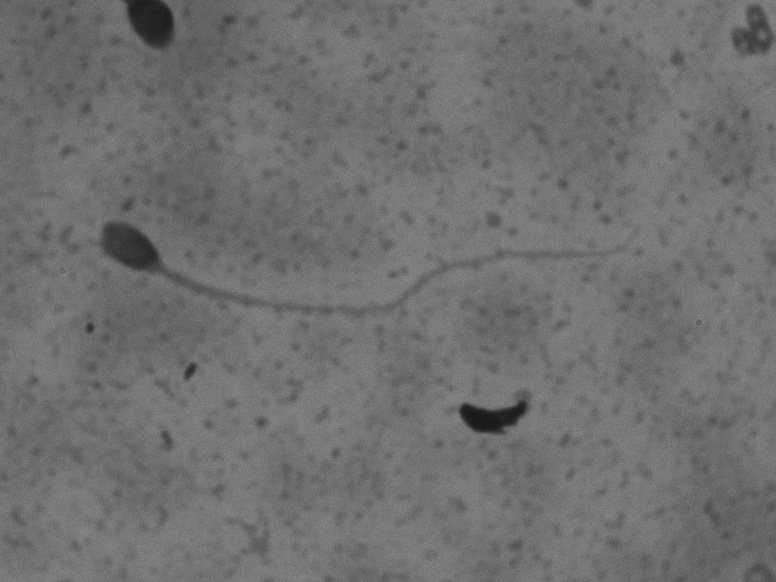Normal: (82, 198, 667, 331)
